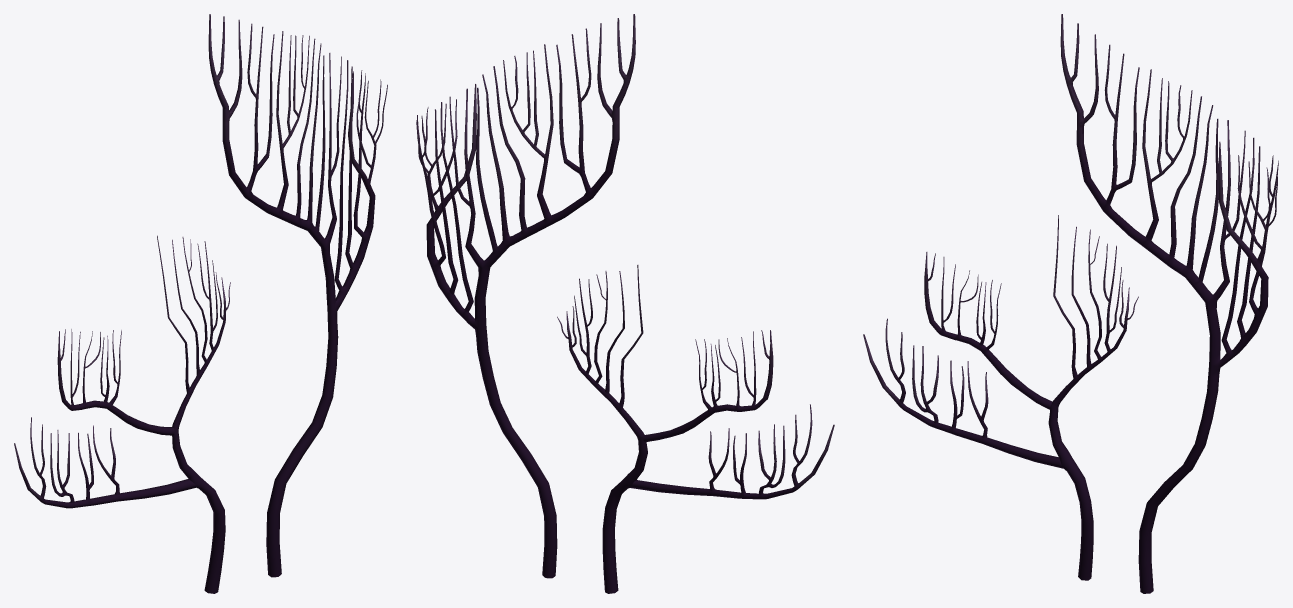
File: plant_15.fbx
The picture shows the model from 3 angles, left to right: view 1: azimuth 30°, elevation 25°; view 2: azimuth 150°, elevation 25°; view 3: azimuth 330°, elevation 25°; orthographic projection. The views are drawn at different scales.
Visible parts, largest first — view 1: polySurface55, polySurface30; view 2: polySurface55, polySurface30; view 3: polySurface55, polySurface30.
Boxes of the visible parts, bbox=[...] form: polySurface55: bbox=[208, 14, 387, 577]; polySurface30: bbox=[14, 235, 230, 593]; polySurface55: bbox=[416, 14, 635, 578]; polySurface30: bbox=[557, 265, 834, 593]; polySurface55: bbox=[1060, 14, 1278, 593]; polySurface30: bbox=[863, 215, 1138, 580].
Bounding box in the file's own units: 26.22 × 36.76 × 4.46.
